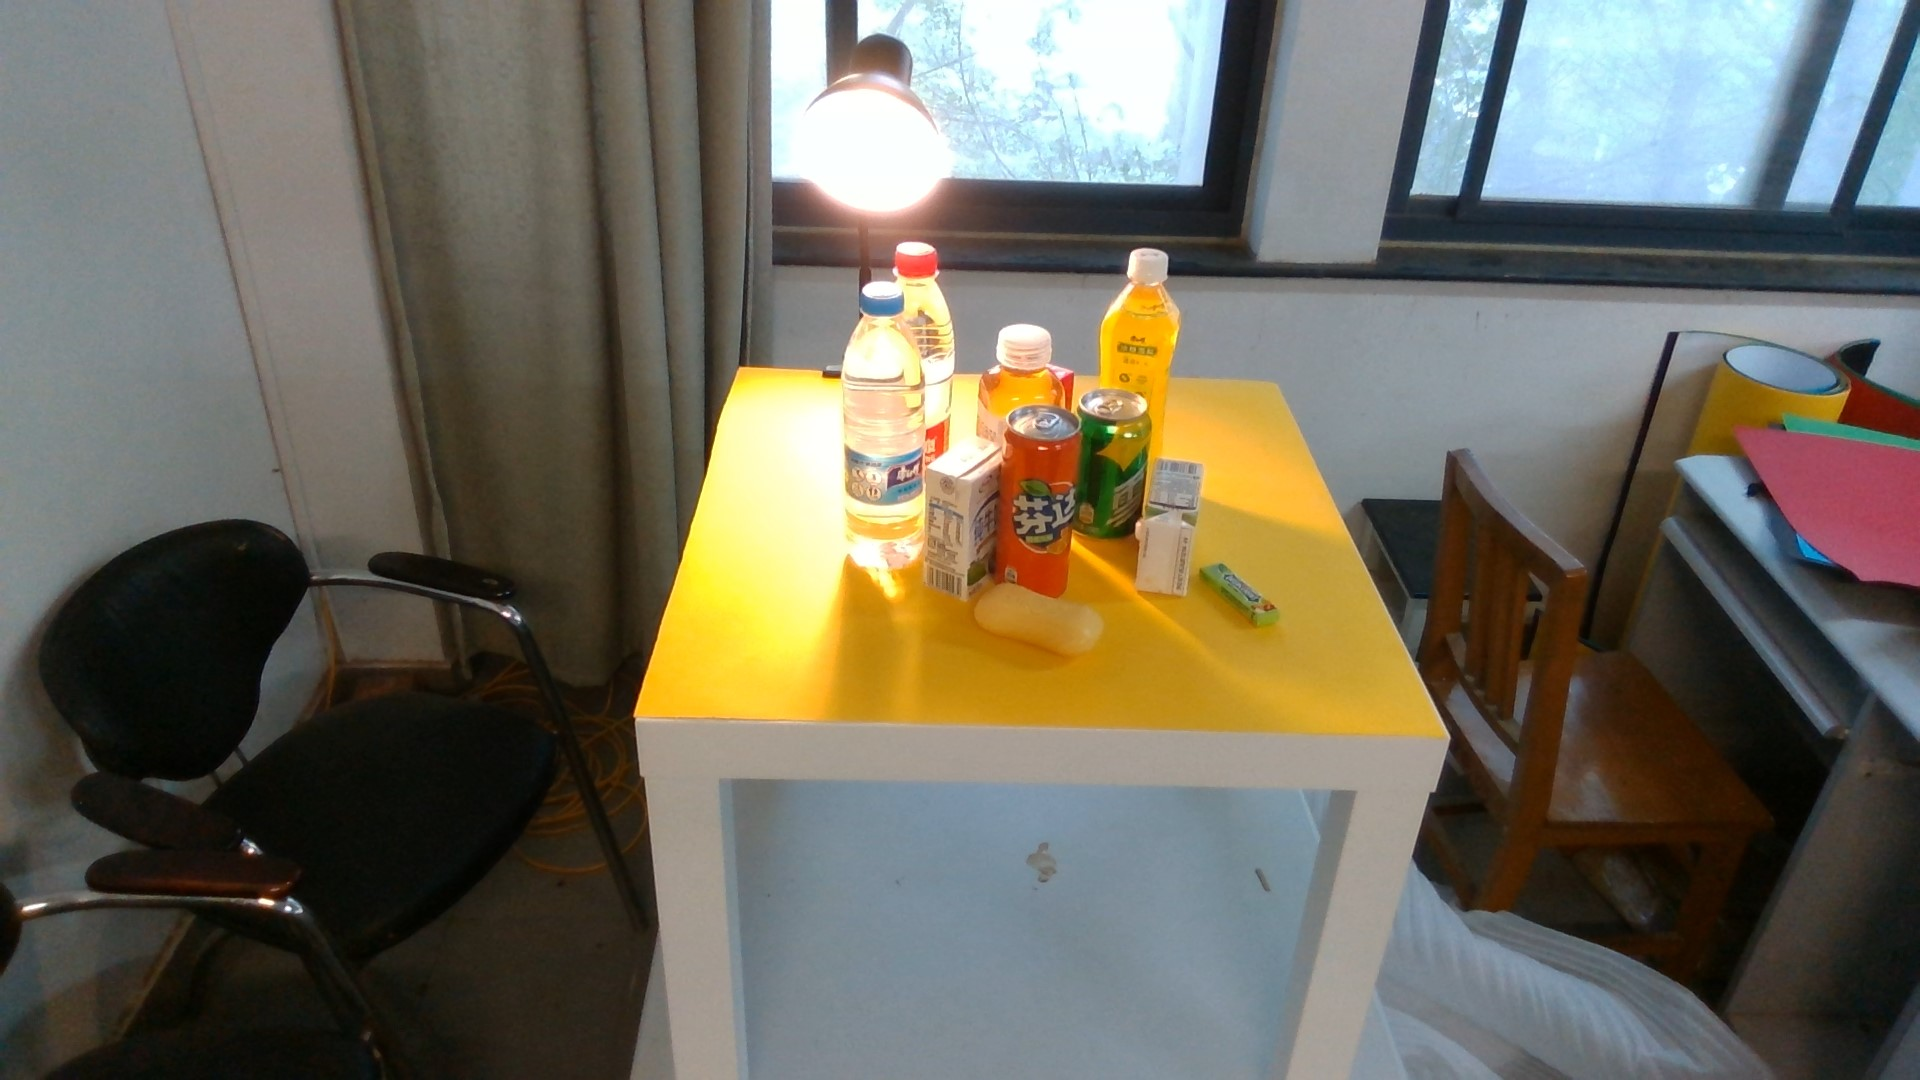BB002: (1201, 562, 1276, 624)
BB003: (975, 582, 1105, 659)
BB009: (1149, 455, 1201, 596)
BB012: (1059, 367, 1077, 404)
BB013: (927, 440, 1000, 596)
ZC001: (1079, 385, 1138, 539)
ZC003: (1001, 407, 1083, 585)
ZC011: (1102, 249, 1179, 384)
ZC012: (977, 323, 1063, 406)
ZC014: (923, 244, 957, 455)
ZC019: (841, 281, 923, 570)
